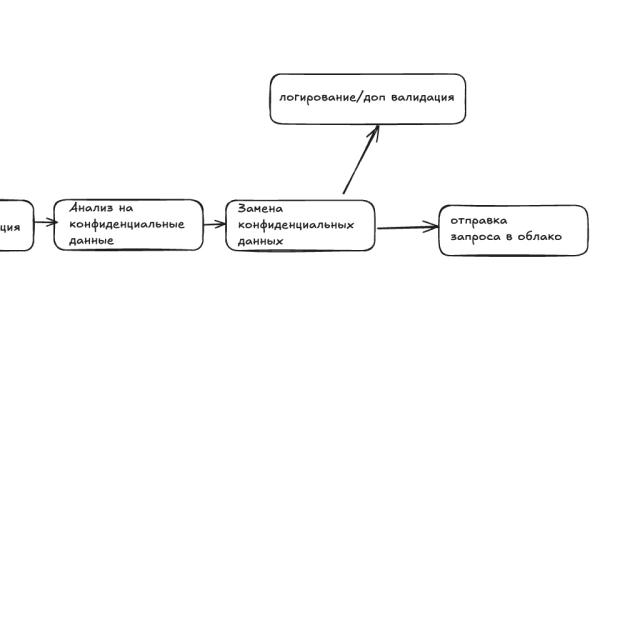arrow: (334, 122, 385, 195), (377, 221, 438, 233), (35, 215, 58, 229), (204, 218, 226, 230)
rectangle: (270, 74, 466, 124), (54, 200, 204, 251), (439, 205, 588, 256), (226, 200, 375, 251)
